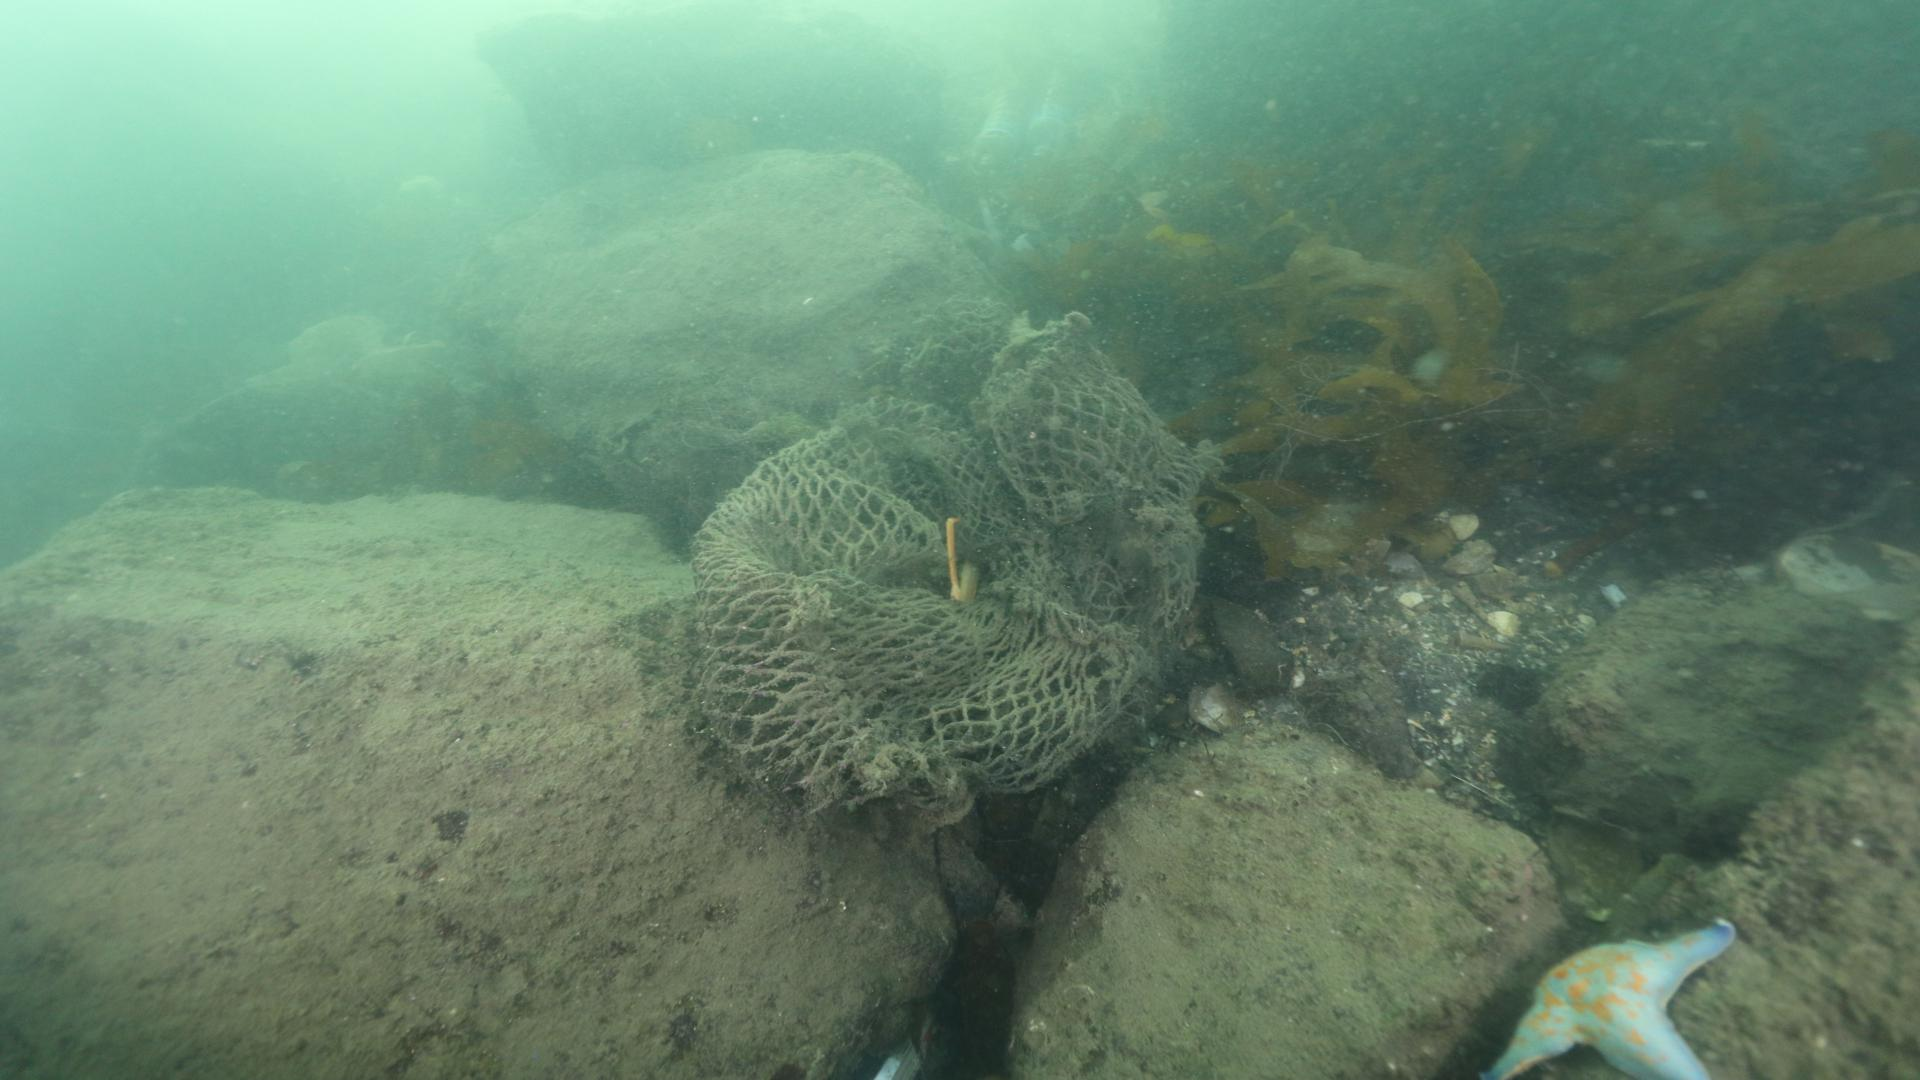fish net: (691, 310, 1204, 819)
